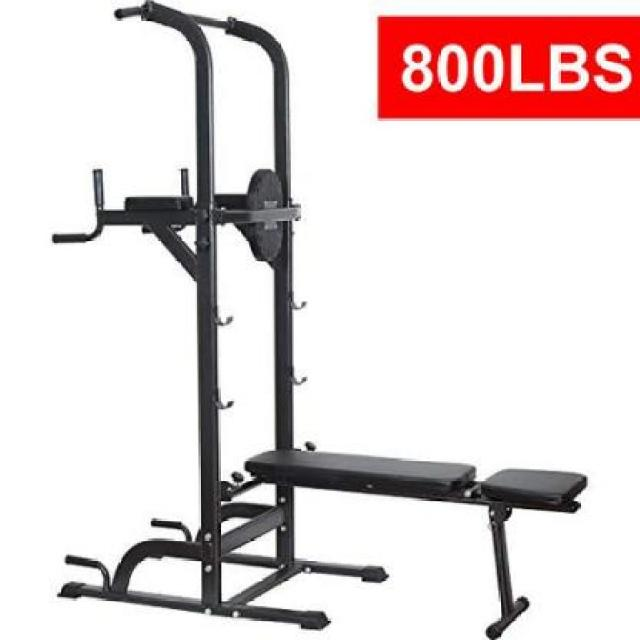chinning dipping: (51, 2, 389, 626)
